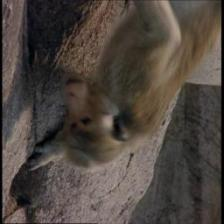monkey: (53, 70, 128, 178)
